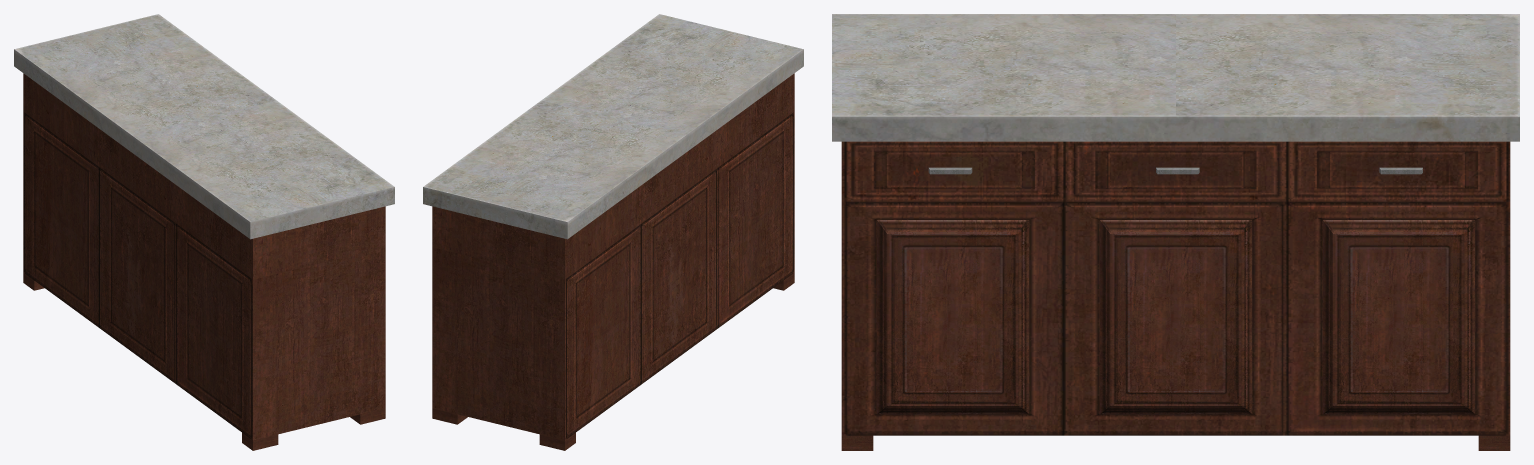
Rendered from Building_Kitchencabinet04.glb.
3 views of the same model, side by side, from view 1: azimuth 30°, elevation 25°; view 2: azimuth 150°, elevation 25°; view 3: azimuth 270°, elevation 25° (orthographic). The views are drawn at different scales.
Parts seen in each view (by area): view 1: xiutz_kitchencabinet_04; view 2: xiutz_kitchencabinet_04; view 3: xiutz_kitchencabinet_04.
Part boxes in pixels (x1,y1,x2,y2): xiutz_kitchencabinet_04: (14, 14, 394, 450); xiutz_kitchencabinet_04: (423, 14, 803, 450); xiutz_kitchencabinet_04: (832, 14, 1519, 450).
Bounding box in the file's own units: 0.7618 × 1.17 × 2.16.
1 material, 1 textured.
